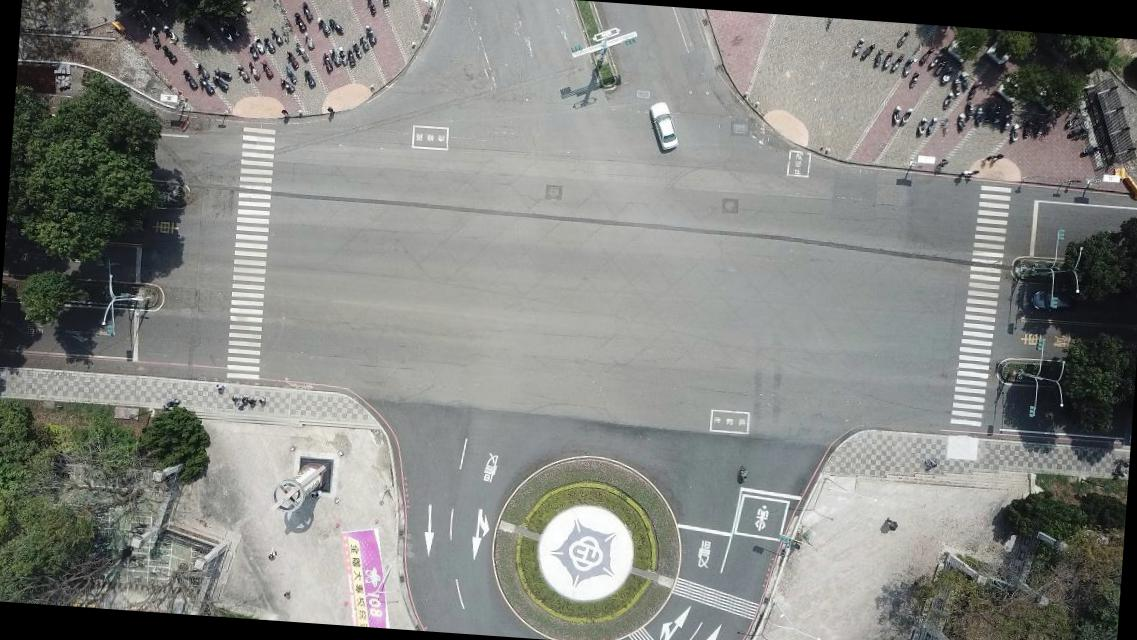vehicle: (646, 100, 680, 151), (1030, 286, 1076, 312)
